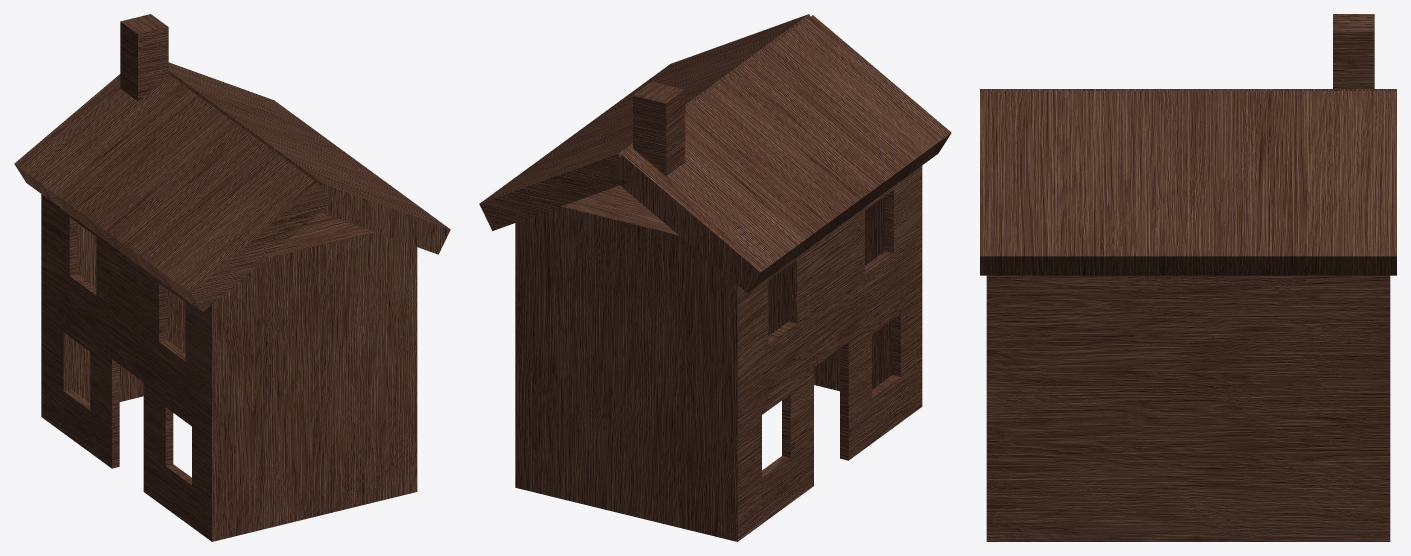
Rendered from dollhouse.fbx.
The picture shows the model from 3 angles, left to right: view 1: azimuth 30°, elevation 25°; view 2: azimuth 150°, elevation 25°; view 3: azimuth 270°, elevation 25°; orthographic projection. The views are drawn at different scales.
Parts seen in each view (by area): view 1: DollHouse; view 2: DollHouse; view 3: DollHouse.
Part boxes in pixels (x1,y1,x2,y2): DollHouse: (14, 14, 450, 541); DollHouse: (479, 14, 951, 541); DollHouse: (980, 14, 1396, 541).
Size of the model in its own units: 982 by 1381 by 1155.
Materials: 1 (1 with a texture image).
